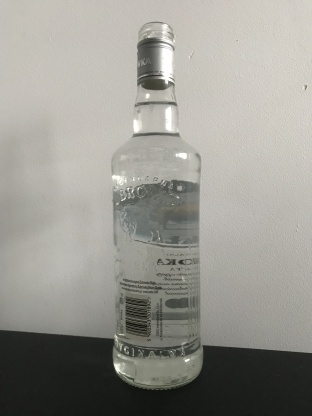nakretka: (135, 19, 176, 91)
